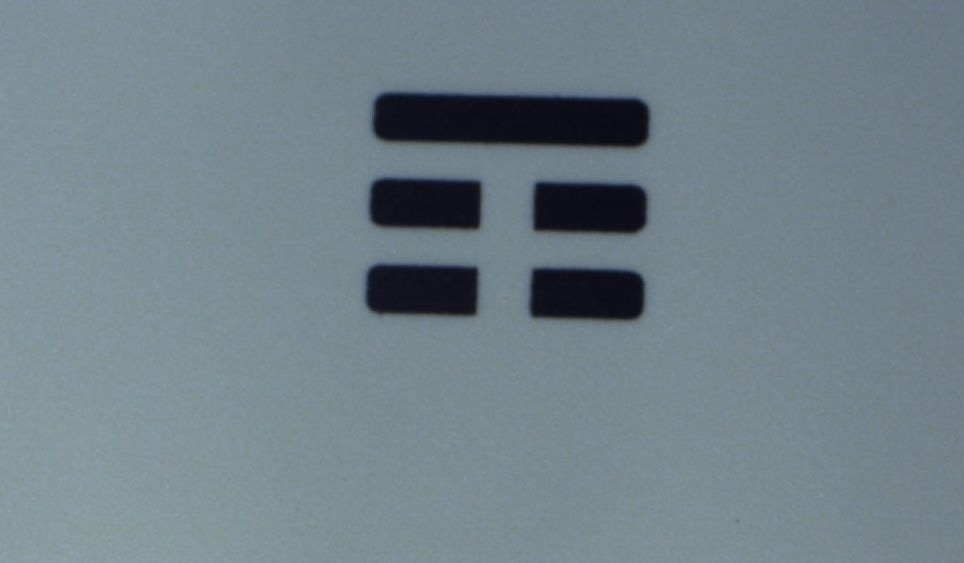BV_F6600PTIM: (354, 72, 663, 339)
